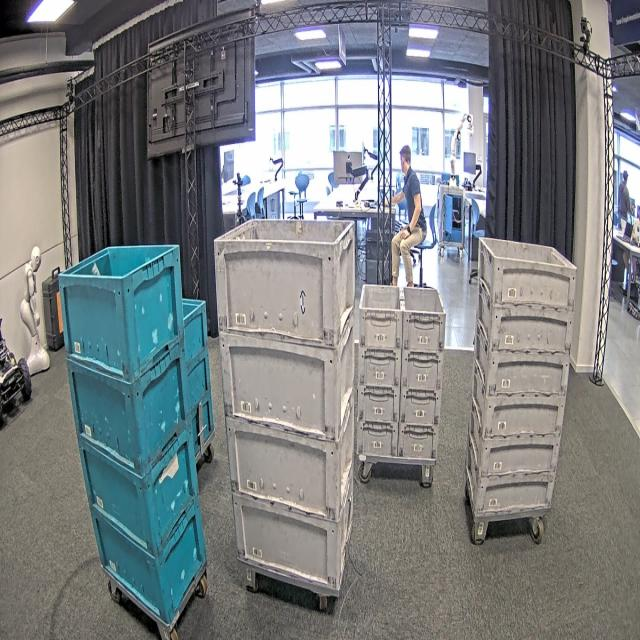Box3G: (478, 240, 576, 314), (475, 286, 575, 354), (473, 330, 571, 398), (468, 469, 554, 516), (478, 395, 566, 439), (476, 433, 560, 478)
Box4G: (214, 226, 355, 356), (212, 331, 351, 444), (231, 414, 353, 526), (235, 491, 342, 591)
Box8G: (401, 288, 447, 352), (359, 285, 403, 350), (358, 348, 402, 388), (358, 384, 402, 422), (355, 419, 399, 456), (401, 389, 442, 427), (402, 351, 442, 389), (399, 426, 438, 462)
BoxB4: (54, 239, 182, 383), (63, 348, 189, 482), (76, 429, 196, 561), (90, 503, 210, 627)
BoxB8: (174, 298, 209, 376), (185, 390, 216, 453), (180, 349, 211, 401), (328, 126, 335, 151)
